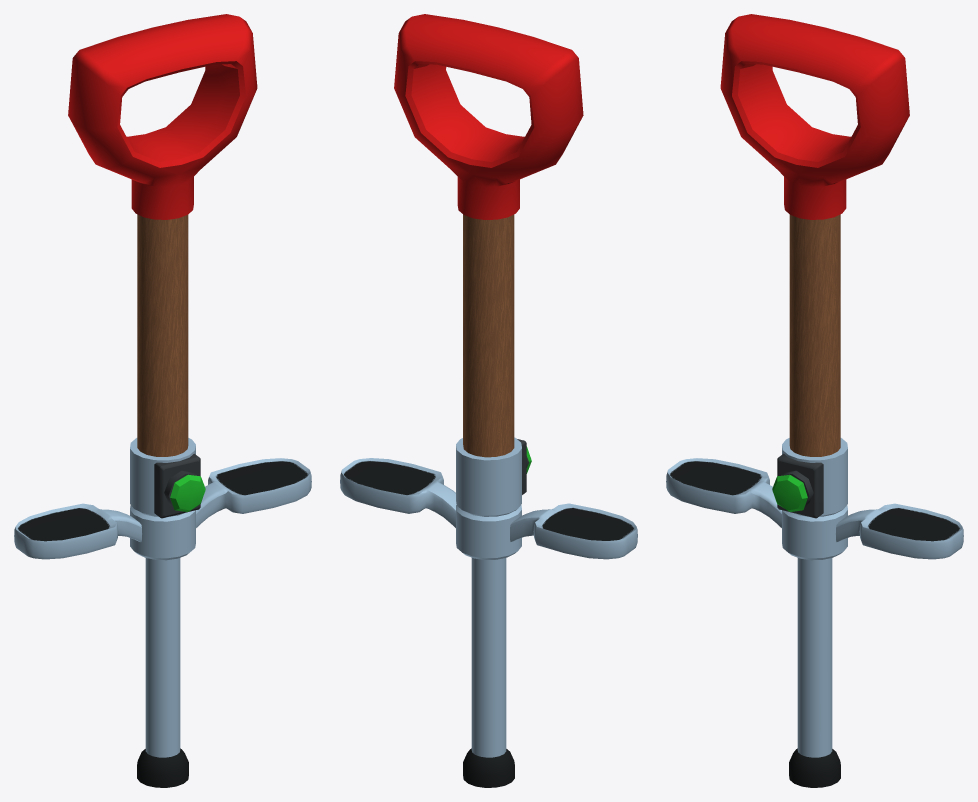
Rendered from SM_Pogo.fbx.
3 renders of one model, left to right at view 1: azimuth 30°, elevation 25°; view 2: azimuth 150°, elevation 25°; view 3: azimuth 330°, elevation 25°, orthographic.
Visible parts, largest first — view 1: handle1, pedals, head_pogo, collar; view 2: handle1, pedals, head_pogo, collar; view 3: handle1, pedals, head_pogo, collar.
Boxes of the visible parts, <box> form: handle1: <box>68,14,257,456</box>; pedals: <box>14,458,311,560</box>; head_pogo: <box>137,558,188,787</box>; collar: <box>130,438,205,518</box>; handle1: <box>394,14,583,457</box>; pedals: <box>340,458,637,559</box>; head_pogo: <box>463,558,514,787</box>; collar: <box>456,437,531,516</box>; handle1: <box>720,14,909,456</box>; pedals: <box>666,458,963,560</box>; head_pogo: <box>789,558,840,787</box>; collar: <box>772,438,847,518</box>.
Bounding box in the file's own units: 47.49 × 119 × 13.92.
Materials: 1 (1 with a texture image).
